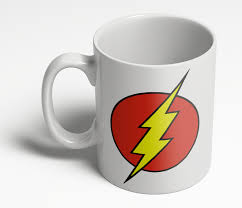cup: (38, 10, 220, 199)
